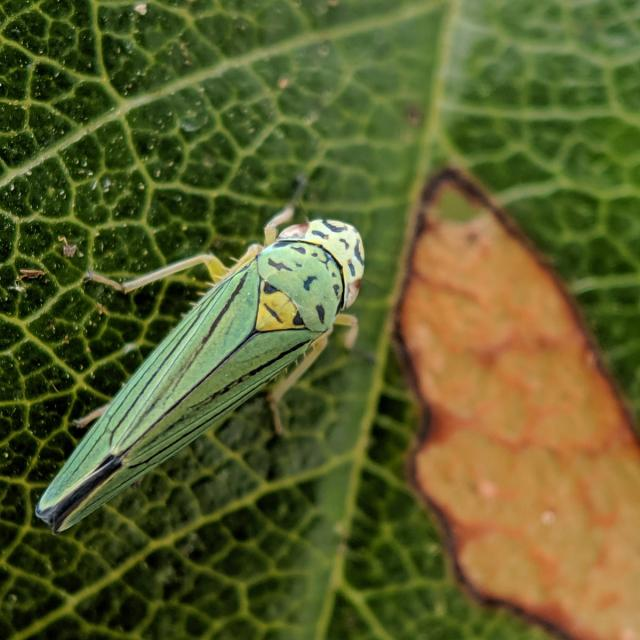Yechan: (26, 199, 391, 544)
